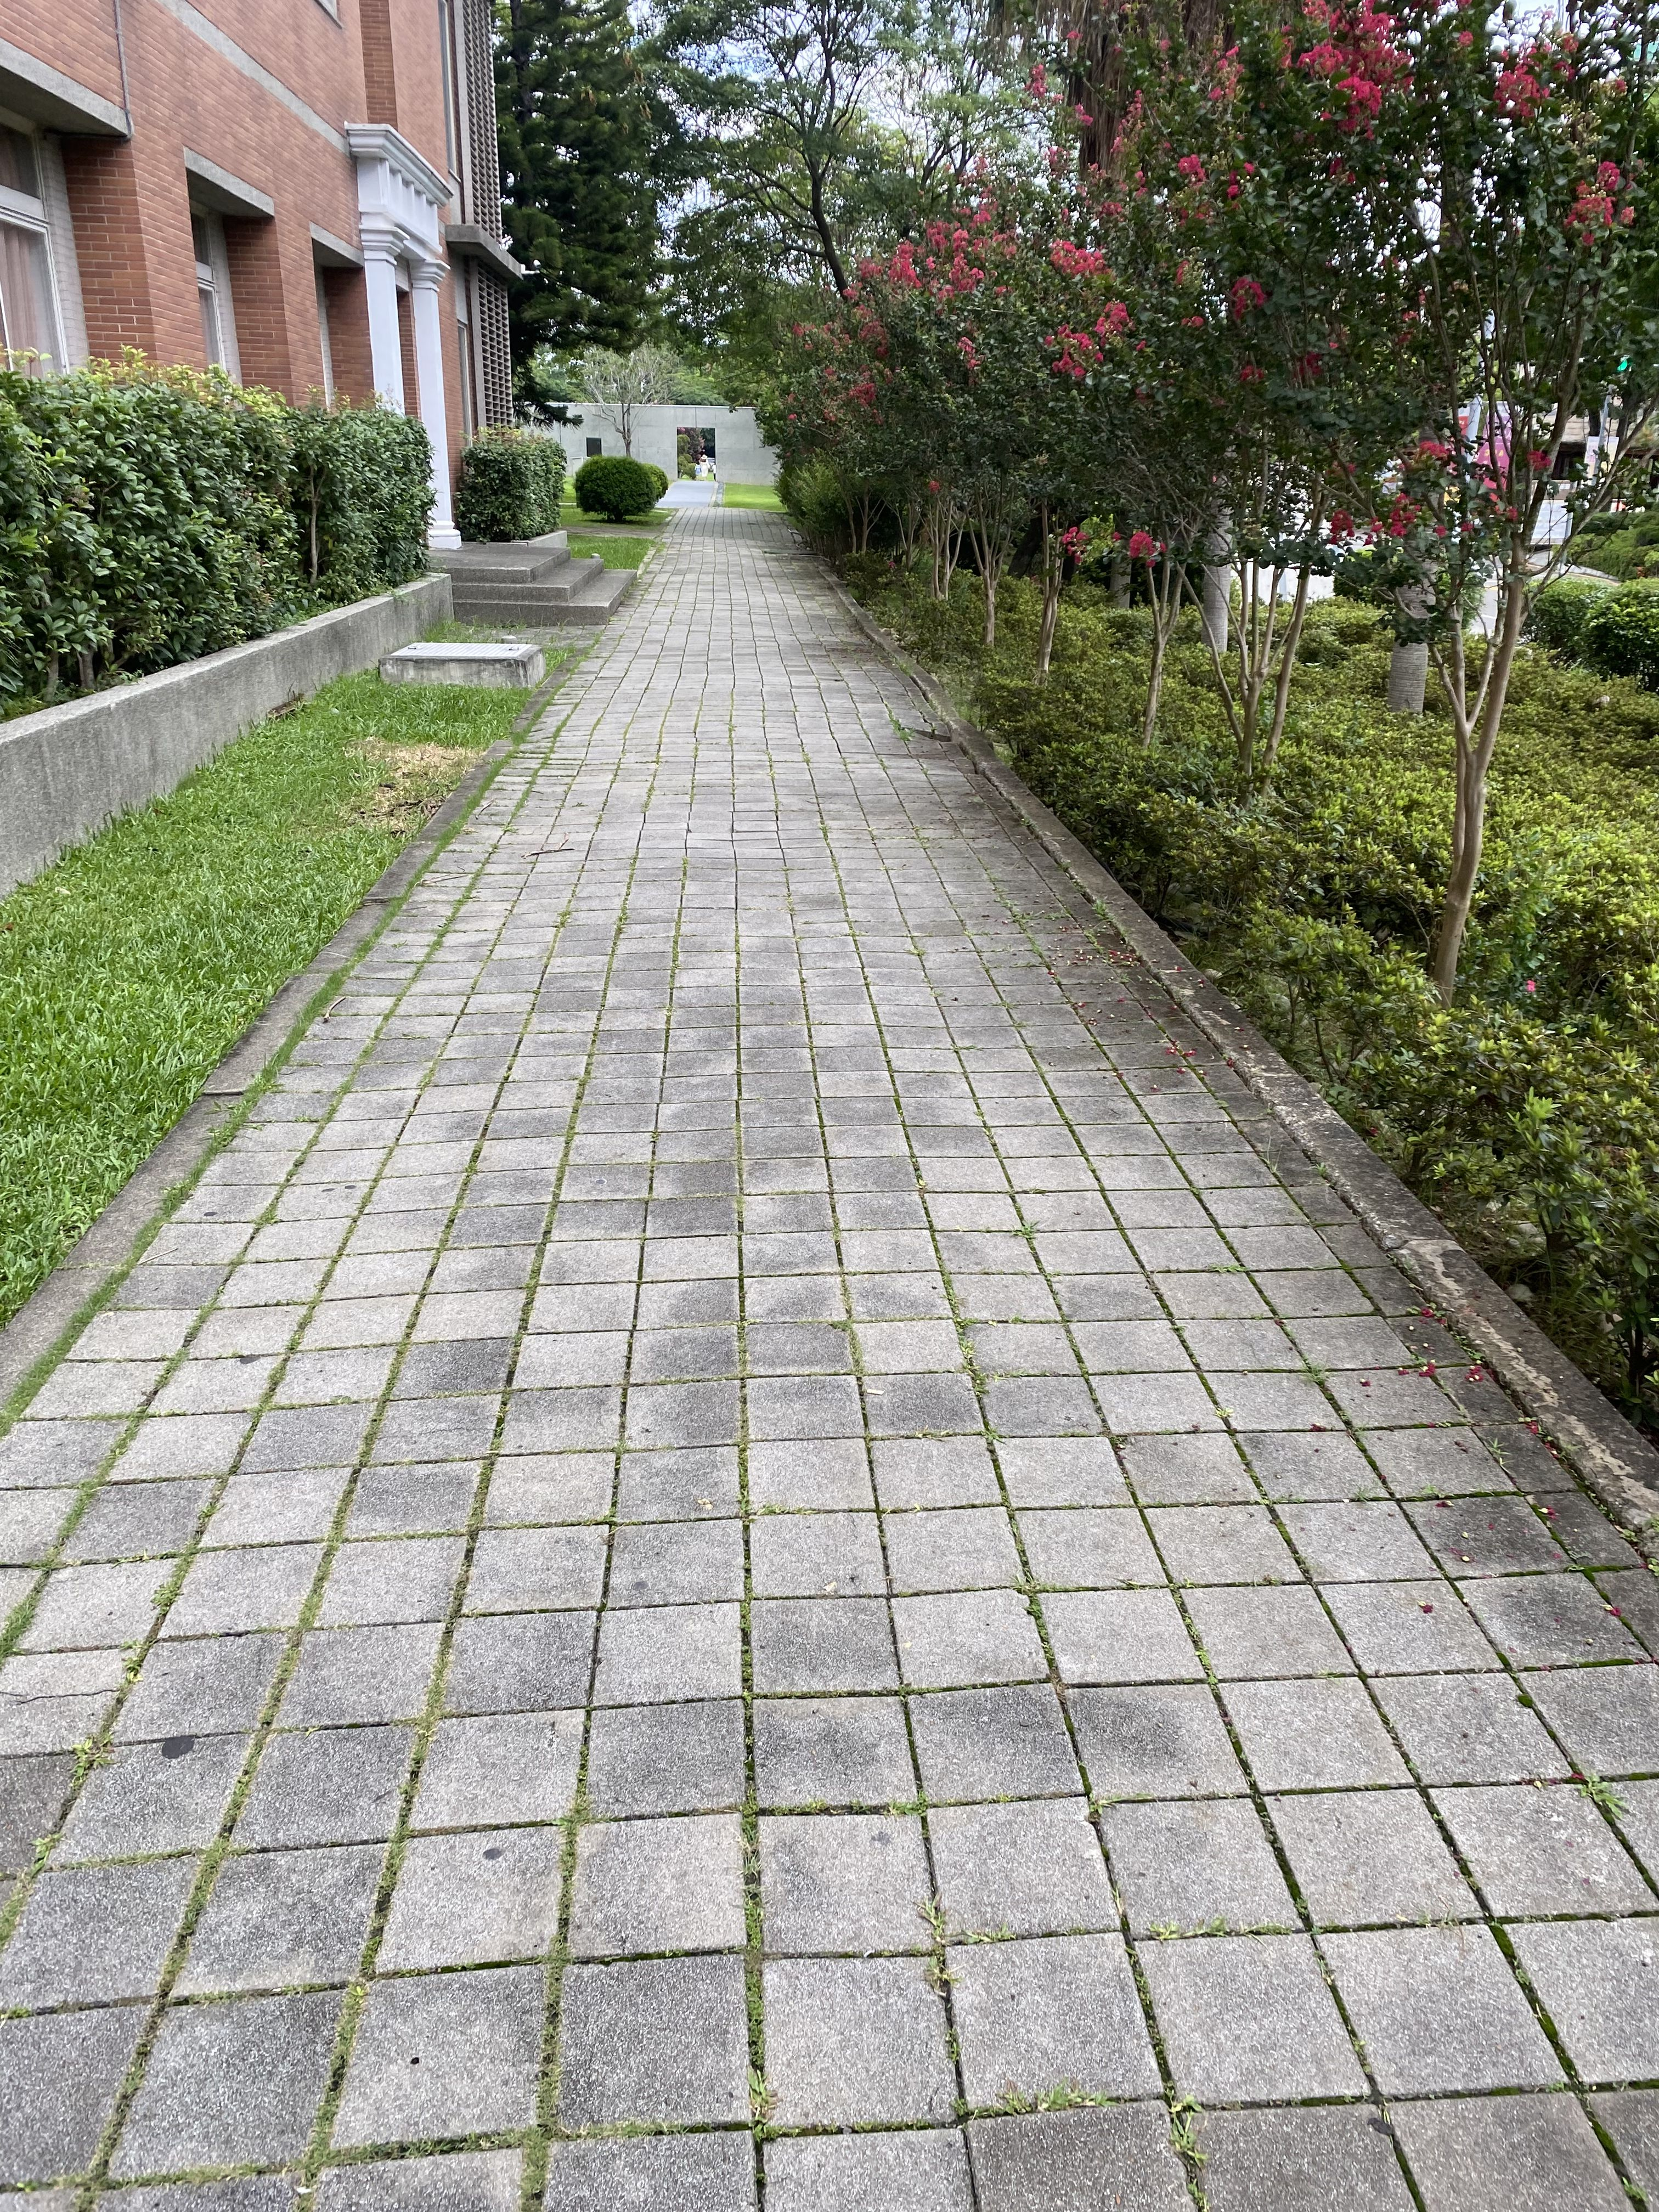0: (5, 784, 563, 2207)
sidewalk: (495, 479, 1654, 2212)
